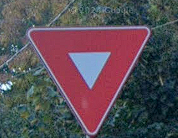cedeaza: (26, 25, 153, 138)
